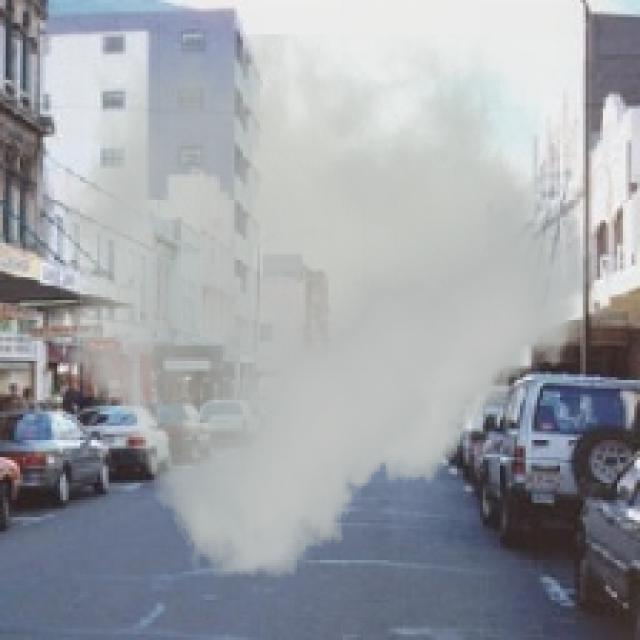smoke: (60, 34, 586, 577)
